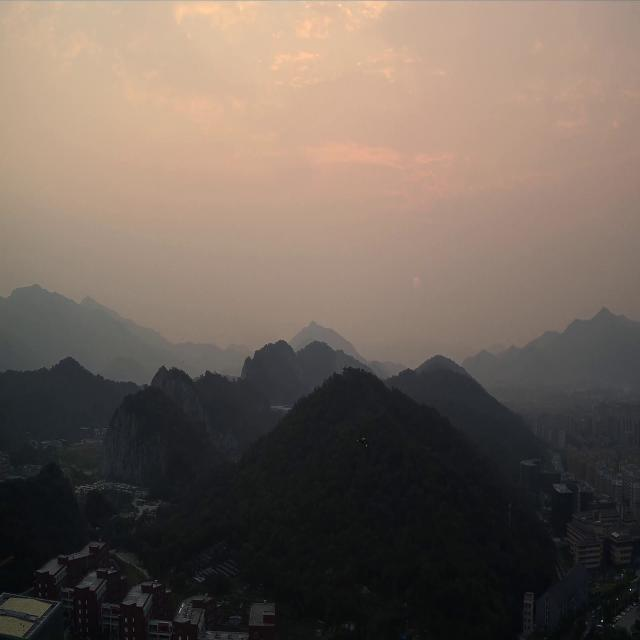UAV: (356, 434, 368, 446)
